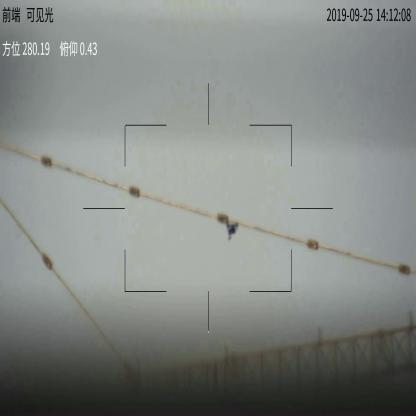uav: (224, 221, 241, 242)
